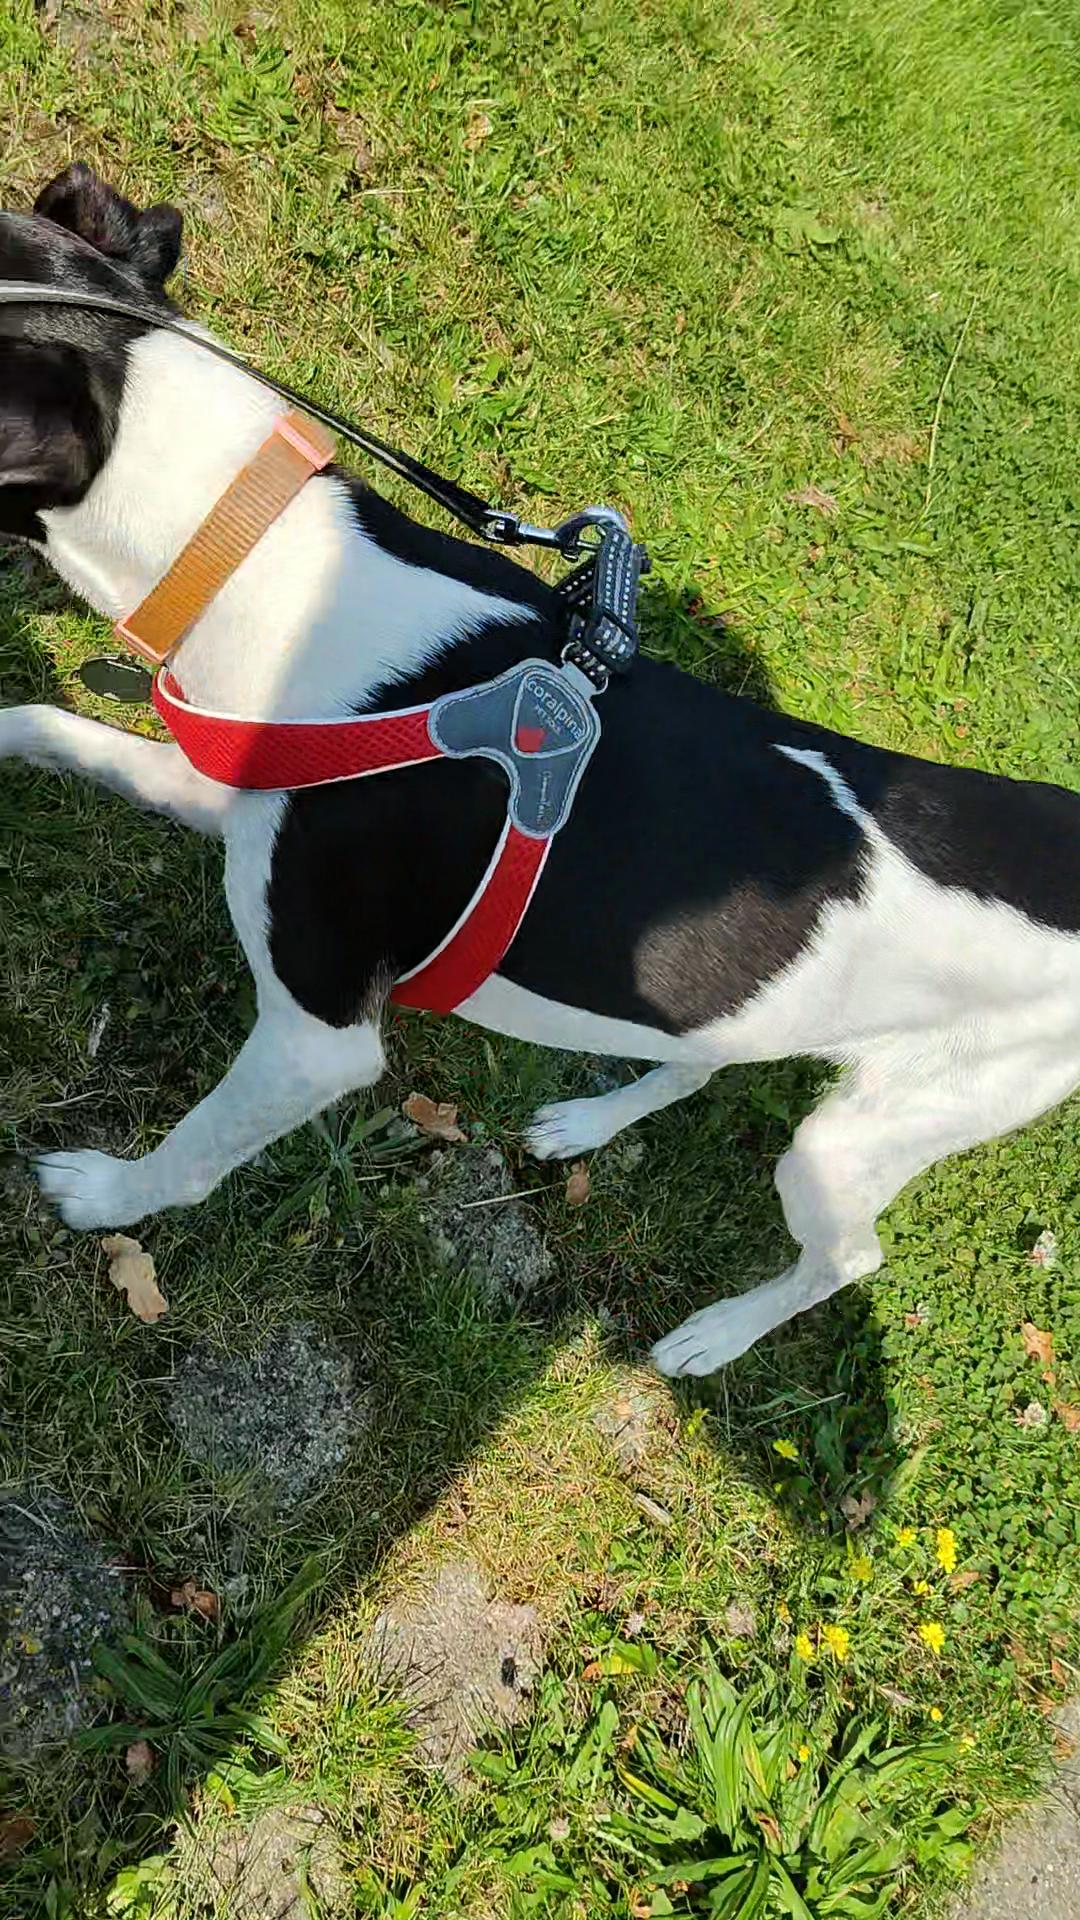Dog: (0, 146, 1079, 1412)
